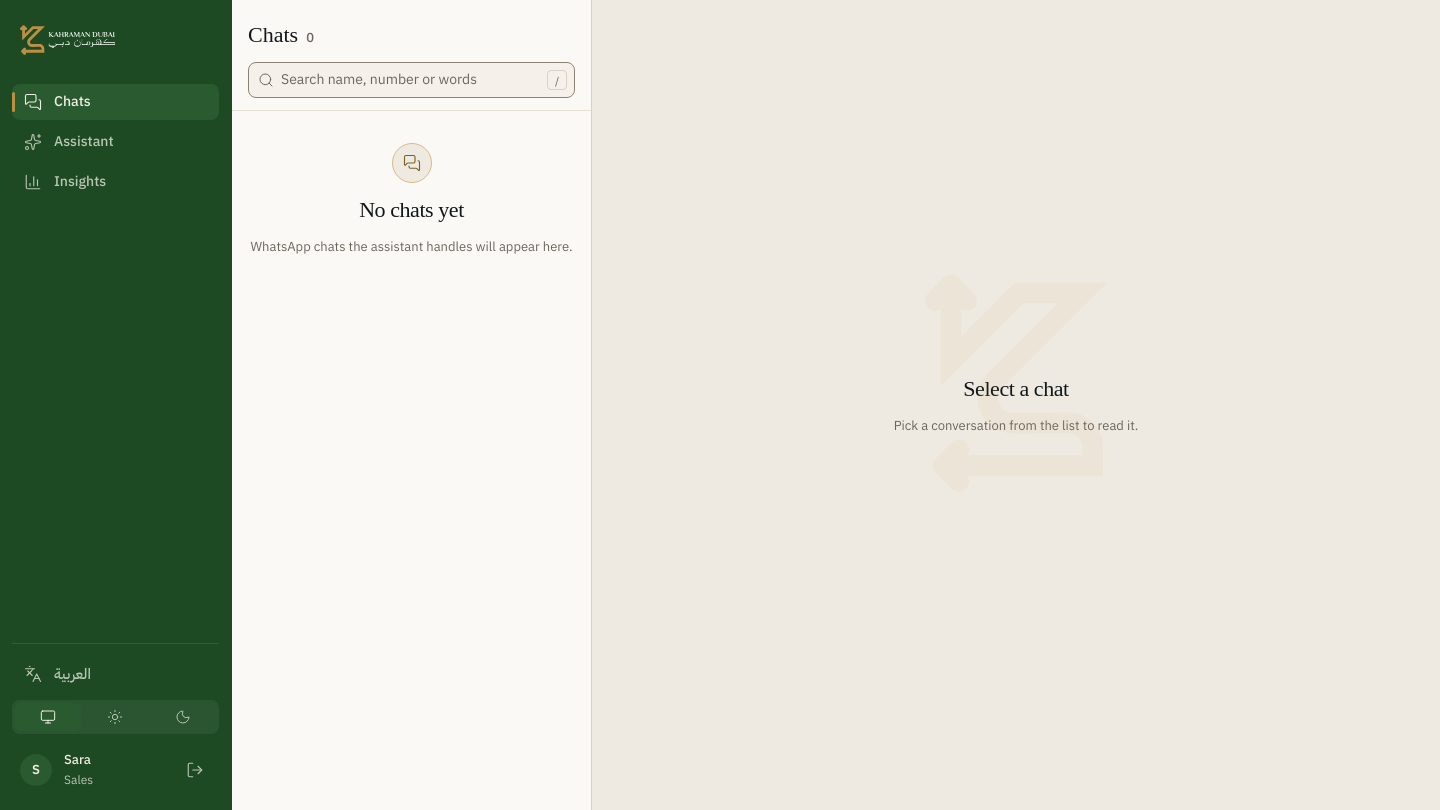
header › switches to Arabic and right to left, and remembers it
Later steps or results of the test are not shown.
Expected: the heading "Chats" is shown, [248,20,298,50]
What coordinates should you click on to do the following:
click the button with aria-label "Switch to Arabic"
I would click on:
 (116, 674)
Its box is [12,656,219,692].
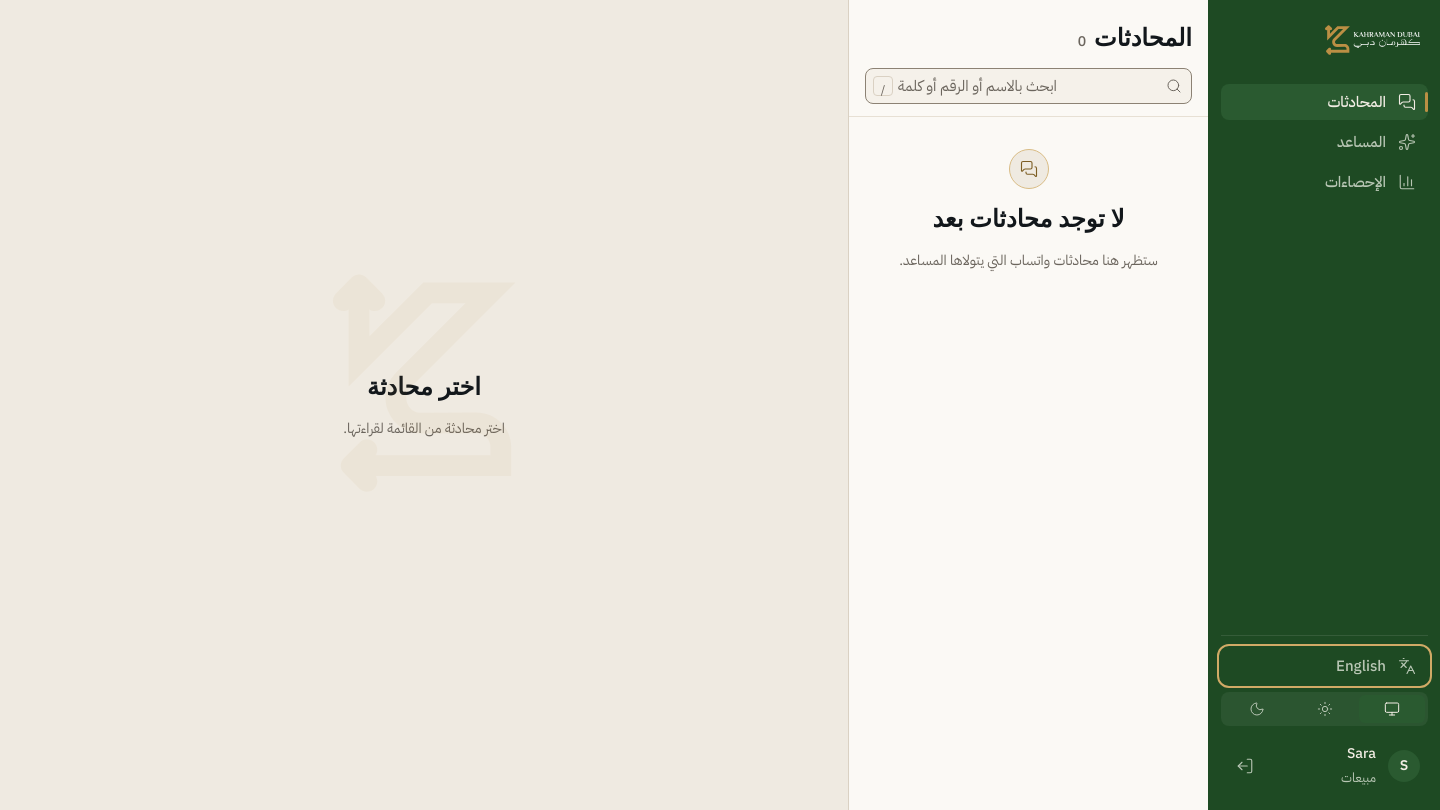
Result: the heading "المحادثات" is shown at [1094,20,1192,56]
